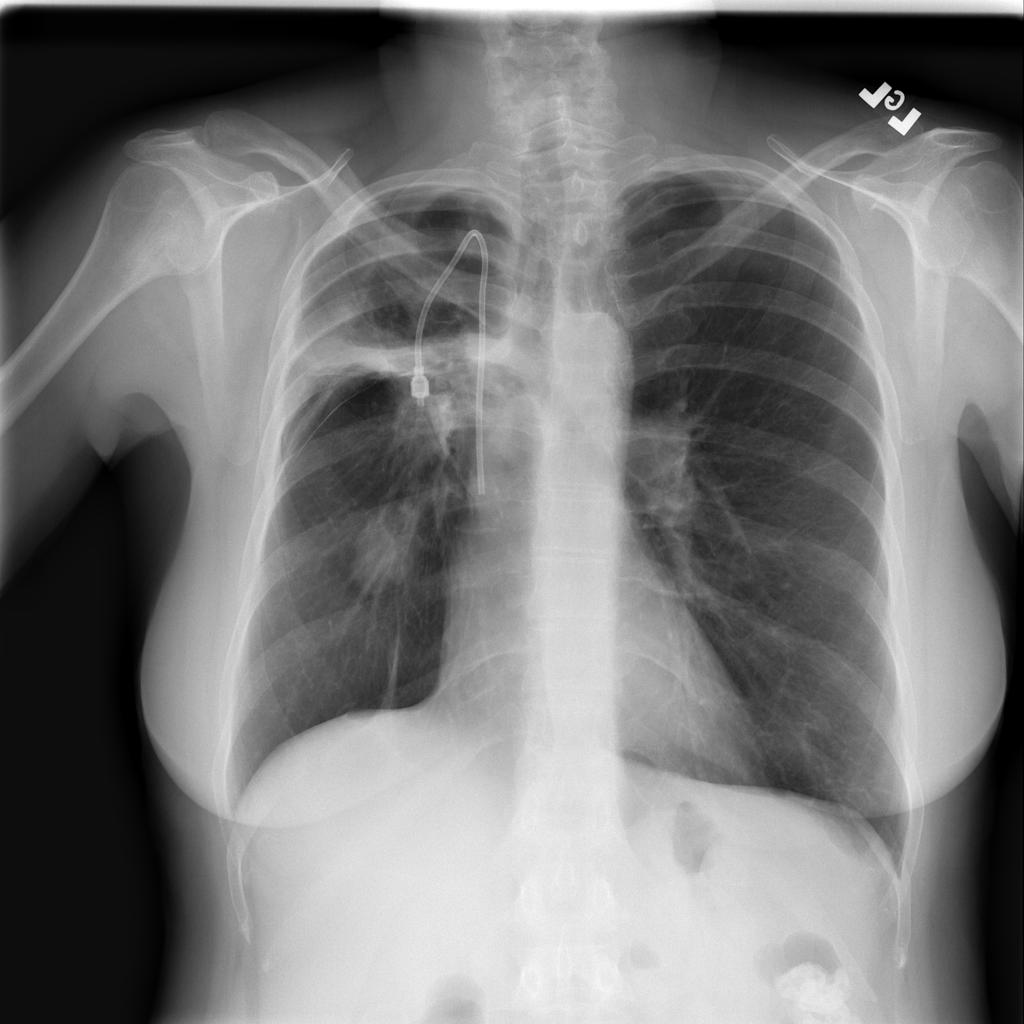nodule: (333, 486, 436, 602)
